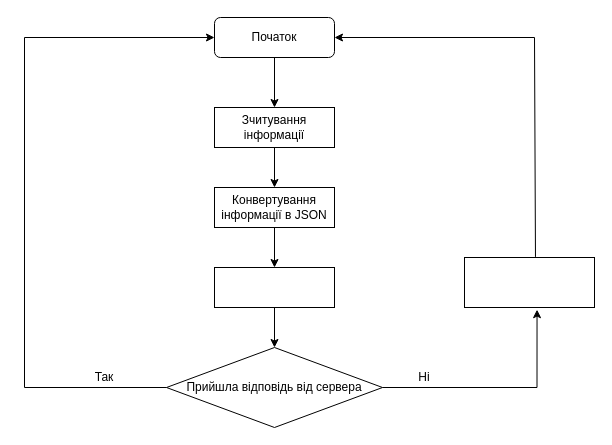
This 612x445 diagram has some shape labels left out. Here are the shapes that lost their labels. From the top down, the centre of each, then its label:
(x=274, y=287): Відправка на сервер
(x=529, y=282): Збереження інформації в базі даних
